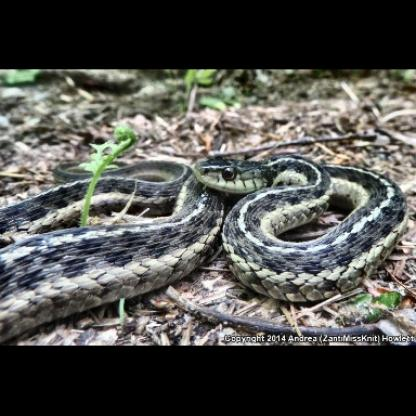Snake: (1, 156, 416, 342)
